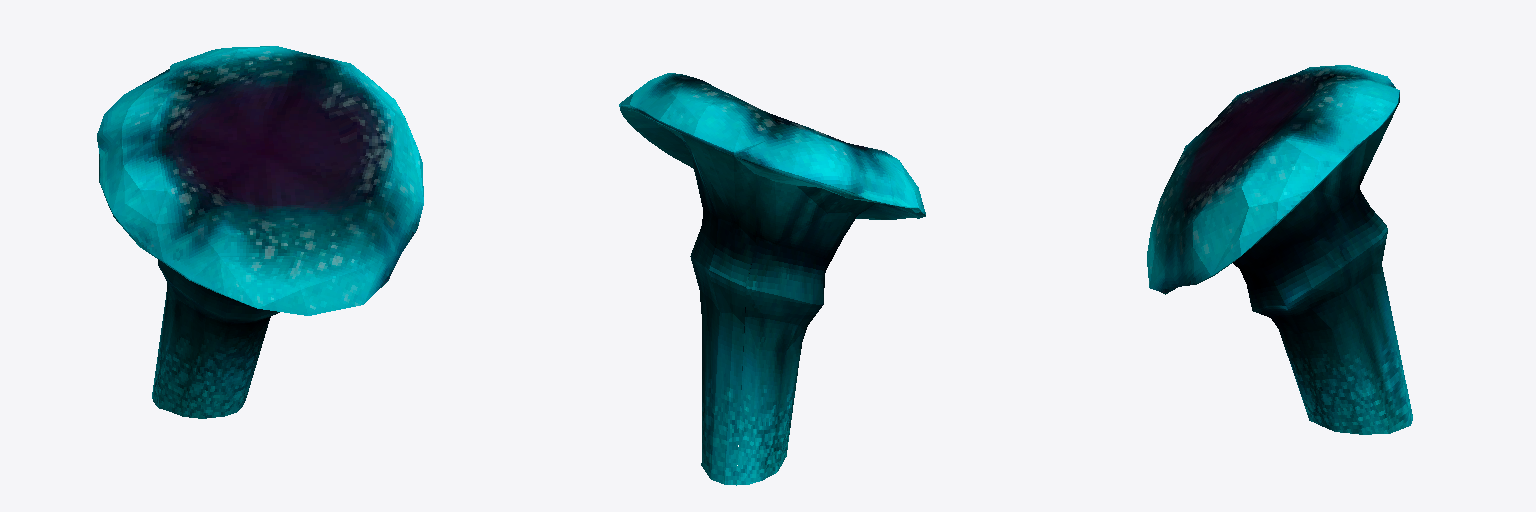
The picture shows the model from 3 angles: view 1: azimuth 30°, elevation 25°; view 2: azimuth 150°, elevation 25°; view 3: azimuth 270°, elevation 25°; orthographic projection.
Parts seen in each view (by area): view 1: smd_mesh.006_trumpet01.006_0; view 2: smd_mesh.006_trumpet01.006_0; view 3: smd_mesh.006_trumpet01.006_0.
Boxes of the visible parts, x1,y1,x2,y2 form: smd_mesh.006_trumpet01.006_0: [97, 46, 423, 418]; smd_mesh.006_trumpet01.006_0: [619, 73, 925, 485]; smd_mesh.006_trumpet01.006_0: [1147, 65, 1412, 434].
Size of the model in its own units: 3.16 by 3.57 by 2.48.
1 materials, 1 textured.